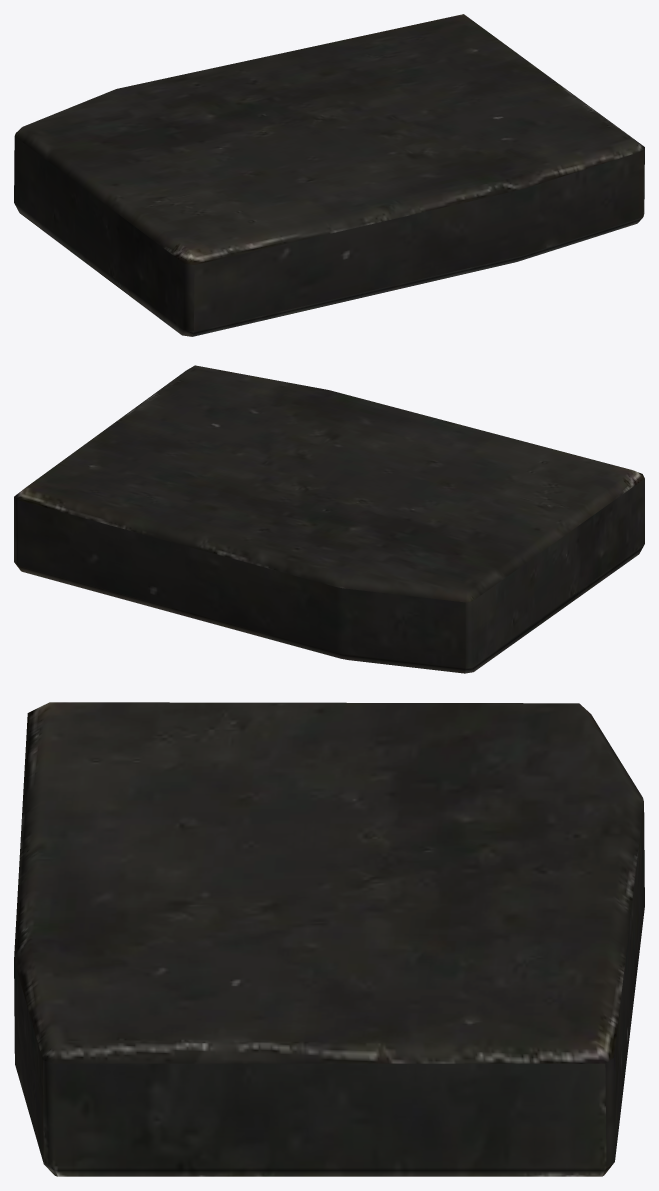
3 views of the same model, one above another, from view 1: azimuth 30°, elevation 25°; view 2: azimuth 150°, elevation 25°; view 3: azimuth 270°, elevation 25° (orthographic). The views are drawn at different scales.
Visible parts, largest first — view 1: SM_DeathTemple_Floor_Slab_03_LOD0; view 2: SM_DeathTemple_Floor_Slab_03_LOD0; view 3: SM_DeathTemple_Floor_Slab_03_LOD0.
Boxes of the visible parts, <box> form: SM_DeathTemple_Floor_Slab_03_LOD0: <box>14,14,644,336</box>; SM_DeathTemple_Floor_Slab_03_LOD0: <box>14,365,644,673</box>; SM_DeathTemple_Floor_Slab_03_LOD0: <box>14,702,644,1176</box>.
Size of the model in its own units: 0.9382 by 0.1606 by 0.7037.
Materials: 1 (1 with a texture image).
